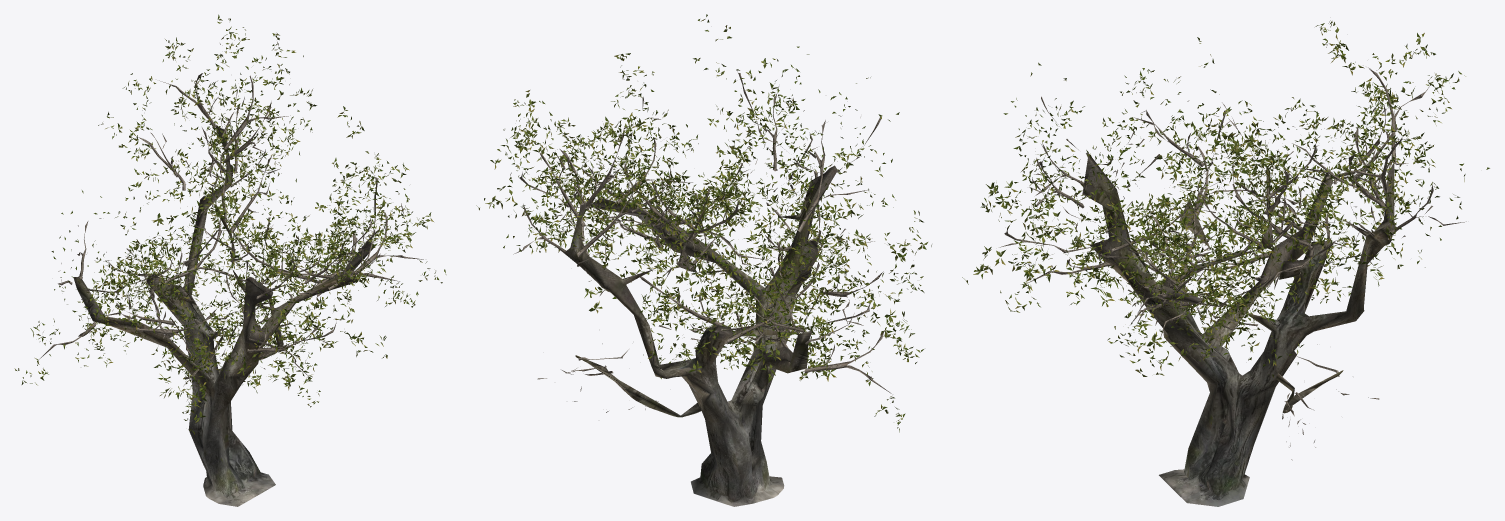
The model's file is island_tree_01_lod1.glb.
3 renders of one model, left to right at view 1: azimuth 30°, elevation 25°; view 2: azimuth 150°, elevation 25°; view 3: azimuth 270°, elevation 25°, orthographic. The views are drawn at different scales.
Visible parts, largest first — view 1: island_tree_01_LOD0; view 2: island_tree_01_LOD0; view 3: island_tree_01_LOD0.
Part boxes in pixels (x1,y1,x2,y2): island_tree_01_LOD0: (14,14,446,506); island_tree_01_LOD0: (476,14,931,506); island_tree_01_LOD0: (962,20,1489,506).
Size of the model in its own units: 4.7 by 4.98 by 4.79.
Materials: 3 (3 with a texture image).
